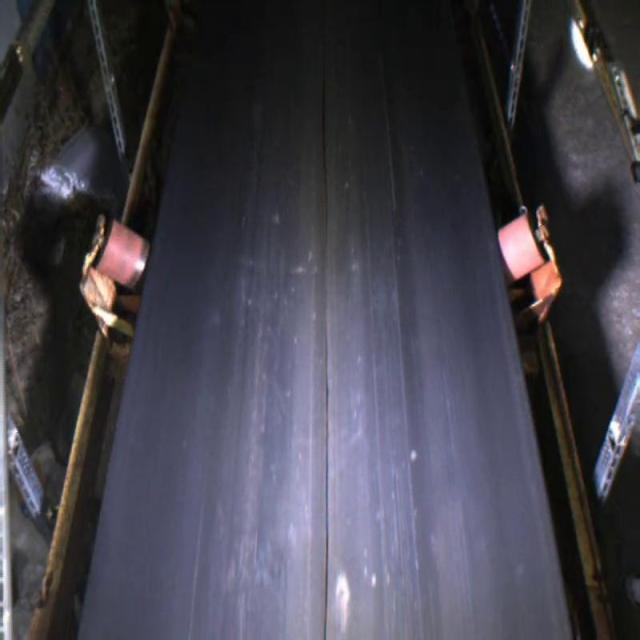Tear: (306, 51, 338, 640)
